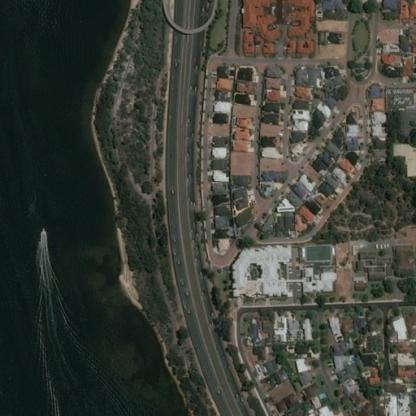ship: (41, 210, 44, 214)
